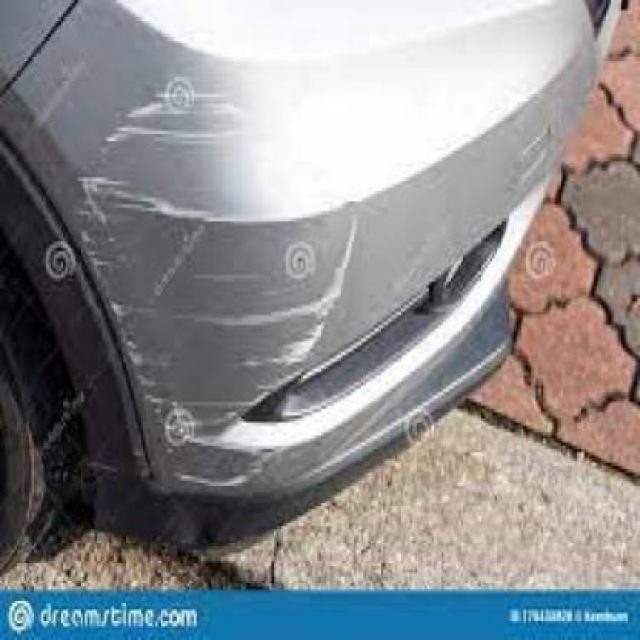front-bumper-scratch: (60, 58, 380, 504)
